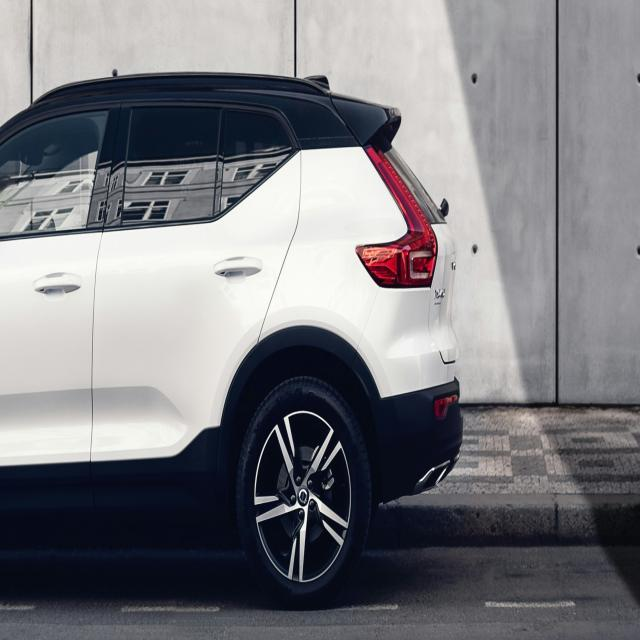SUV: (0, 94, 455, 573)
